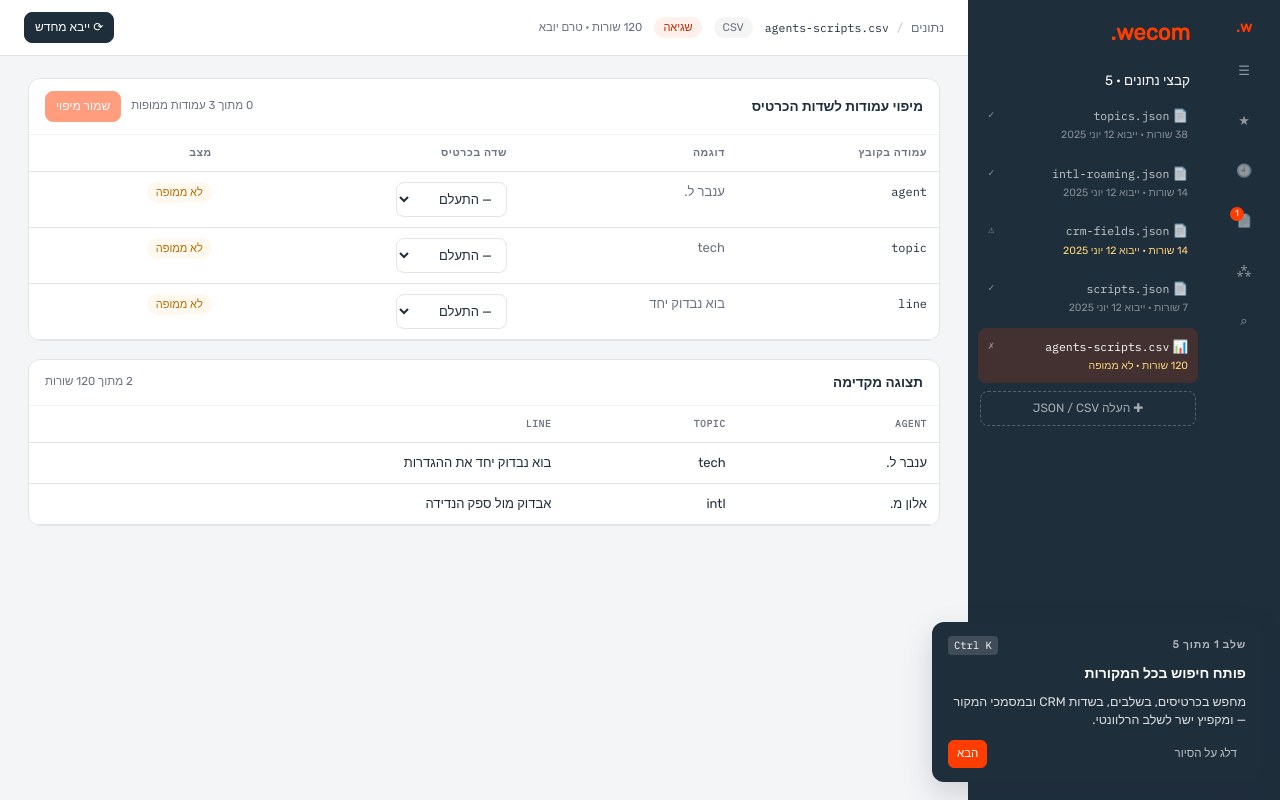
Test: <DataPage> › refuses to save a mapping that points two columns at the same card field
This screenshot has width=1280, height=800.
Expected: the table with test id "mapping-table" is shown, [29, 135, 939, 340]
Select "כותרת" in the dropdown named "שדה בכרטיס עבור agent" at point(452, 199), box [396, 182, 507, 217]
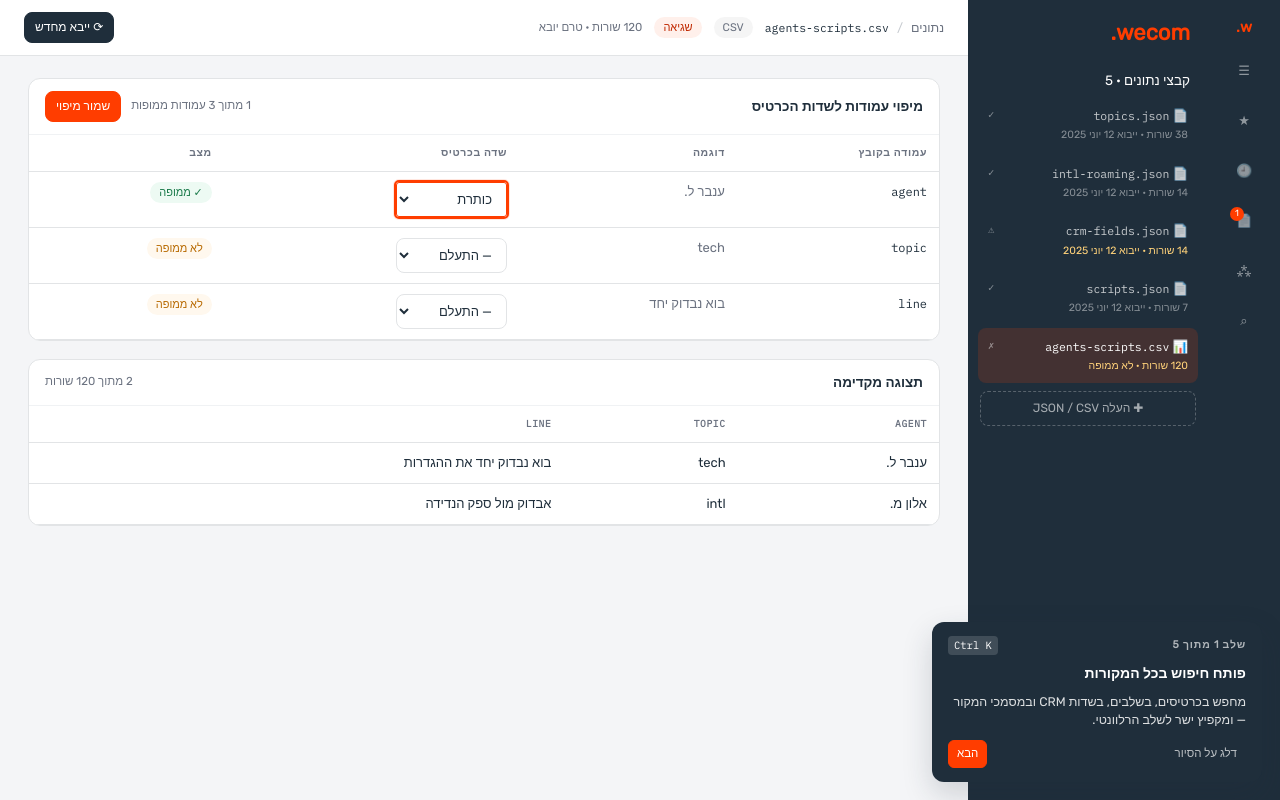
Select "כותרת" in the dropdown named "שדה בכרטיס עבור topic" at point(452, 255), box [396, 238, 507, 273]
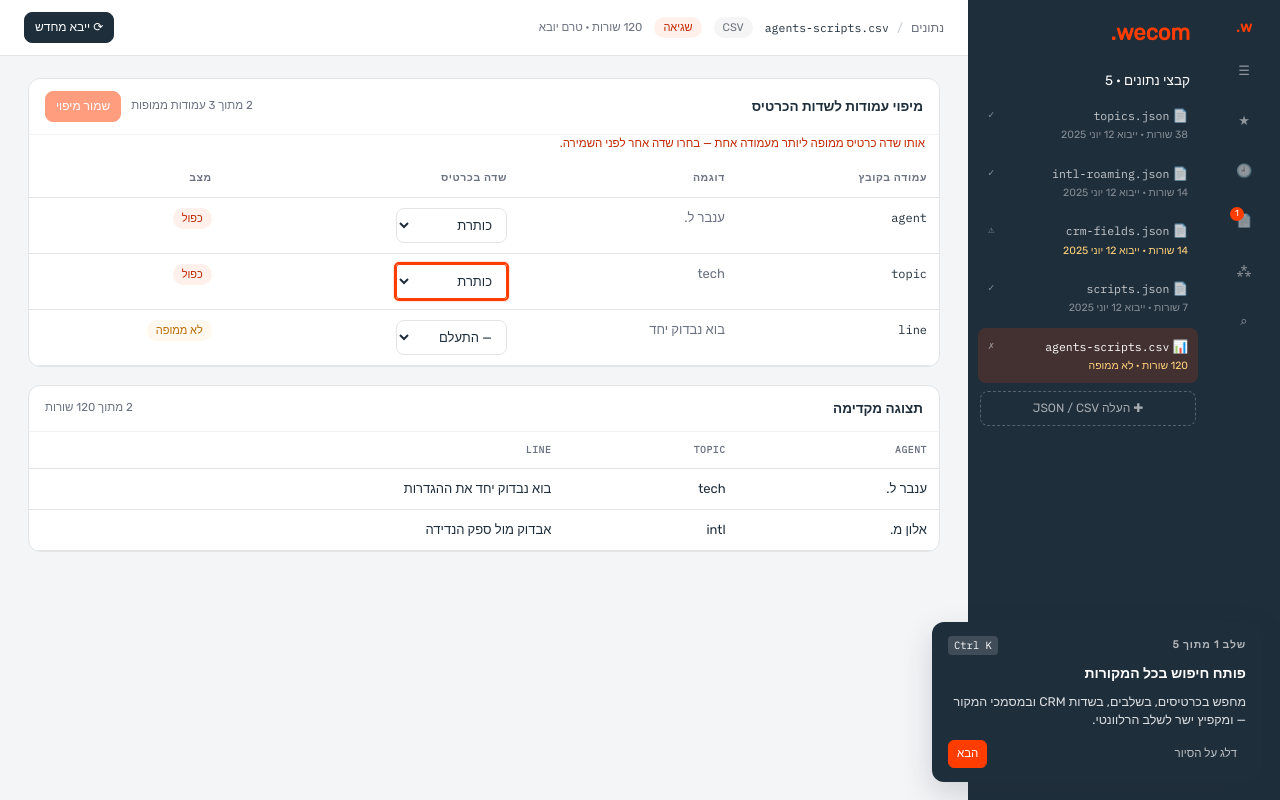
Expected: the text "כפול" is shown 2 times, [173, 208, 212, 229]; [173, 264, 212, 285]
Expected: the button "שמור מיפוי" is disabled, [45, 91, 121, 122]
